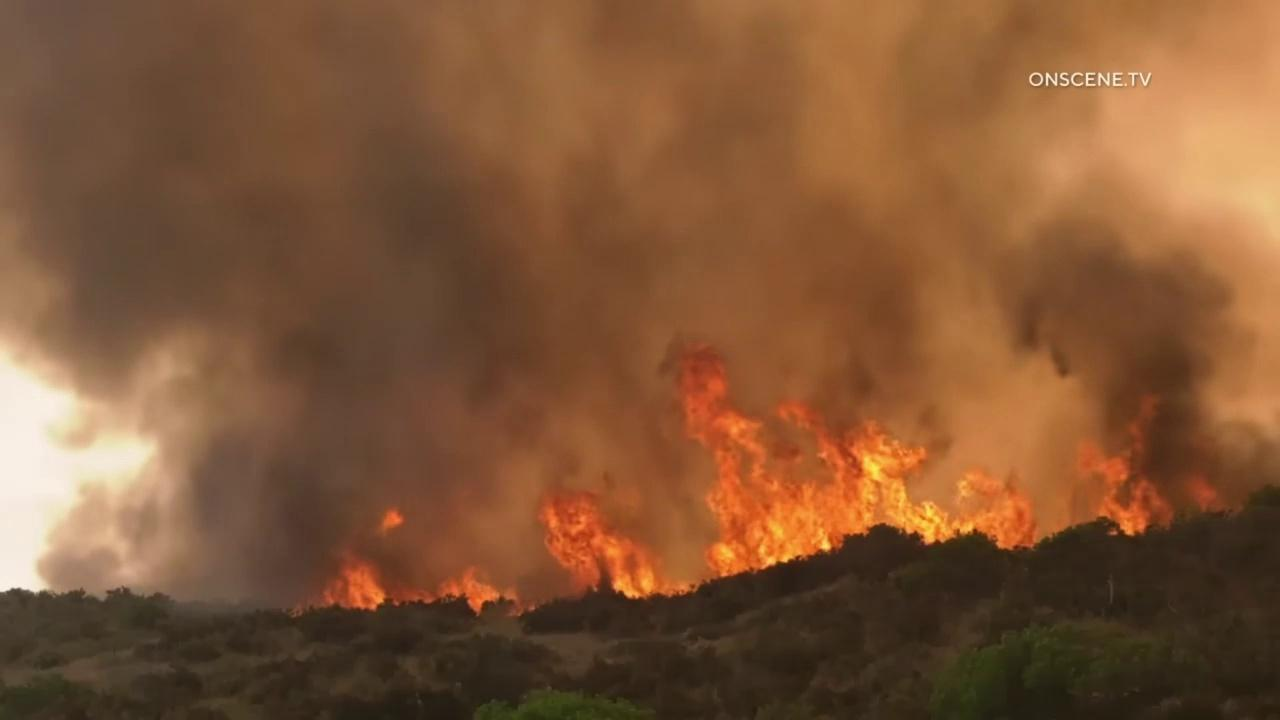fire: (678, 331, 1042, 580), (536, 493, 698, 606), (288, 554, 528, 622), (1074, 393, 1176, 538), (1186, 471, 1219, 515), (380, 507, 405, 532)
smoke: (0, 0, 1280, 615)
